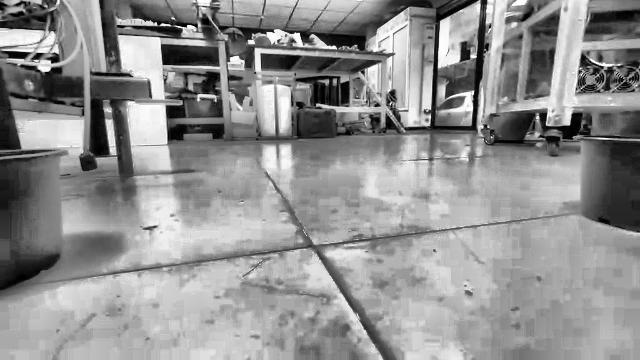pot: (0, 149, 67, 289), (581, 136, 639, 232)
